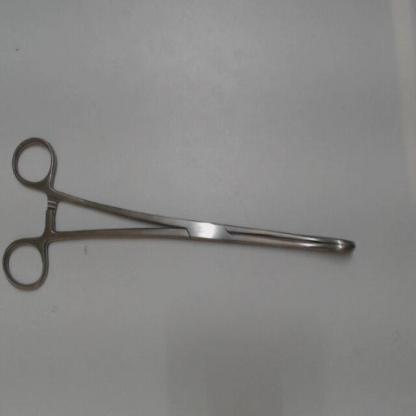Sponge Forceps: (2, 123, 366, 301)
